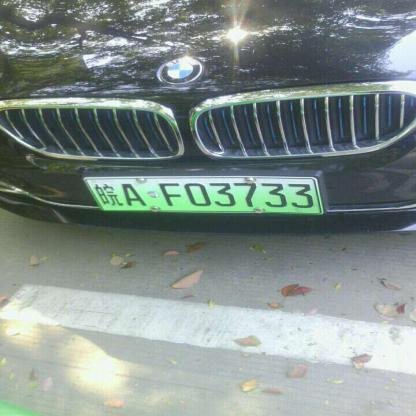lp: (85, 178, 321, 211)
